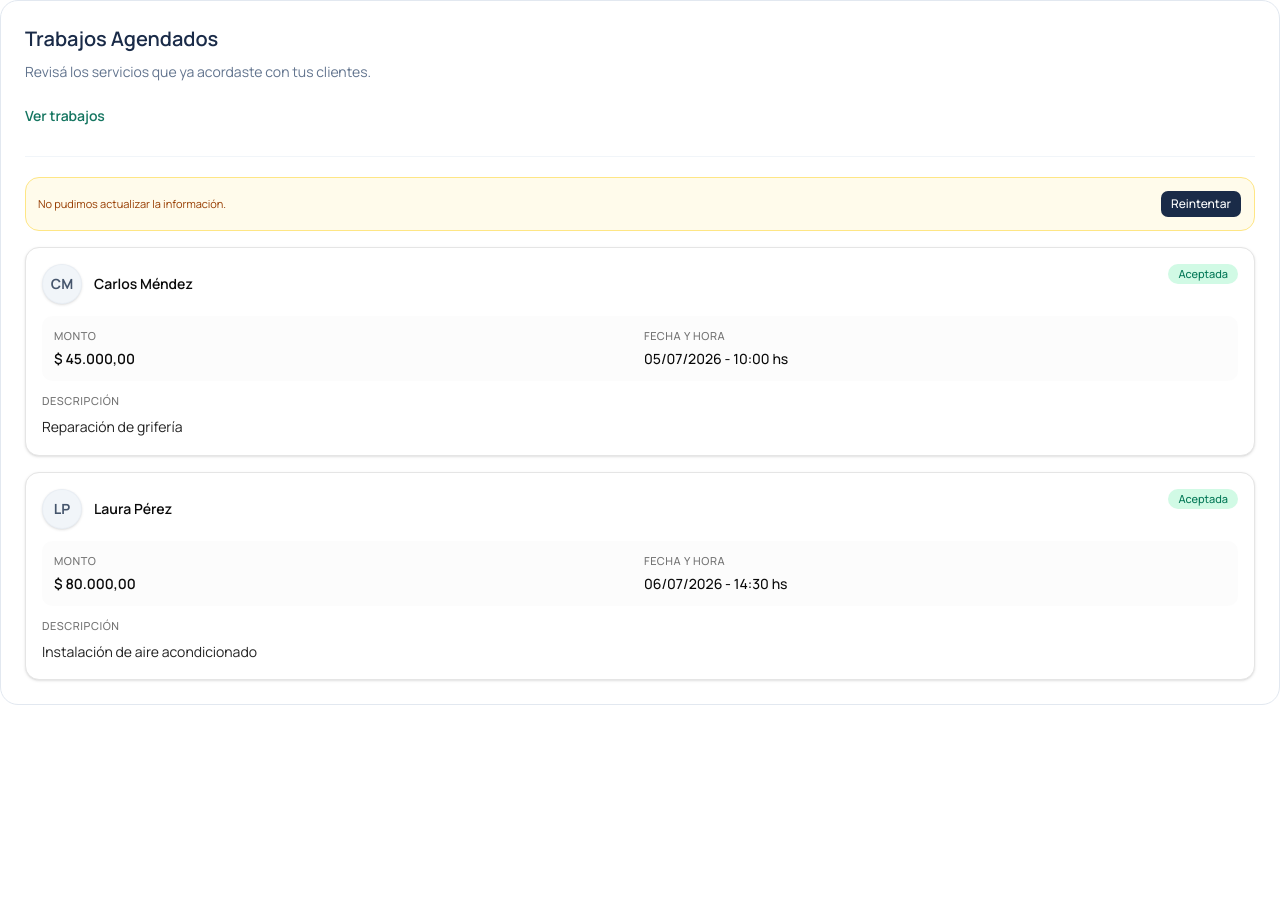
it: ScheduledJobsSection › preserves scheduled jobs and allows retry after a refresh failure
This screenshot has width=1280, height=900.
Check: the text "Reparación de grifería" is shown, box [42, 417, 182, 436]
Check: the message with test id "scheduled-jobs-refresh-error" shows "No pudimos actualizar la información.", box [38, 196, 226, 210]
Click the button "Reintentar" at (1201, 204), box [1160, 190, 1242, 218]
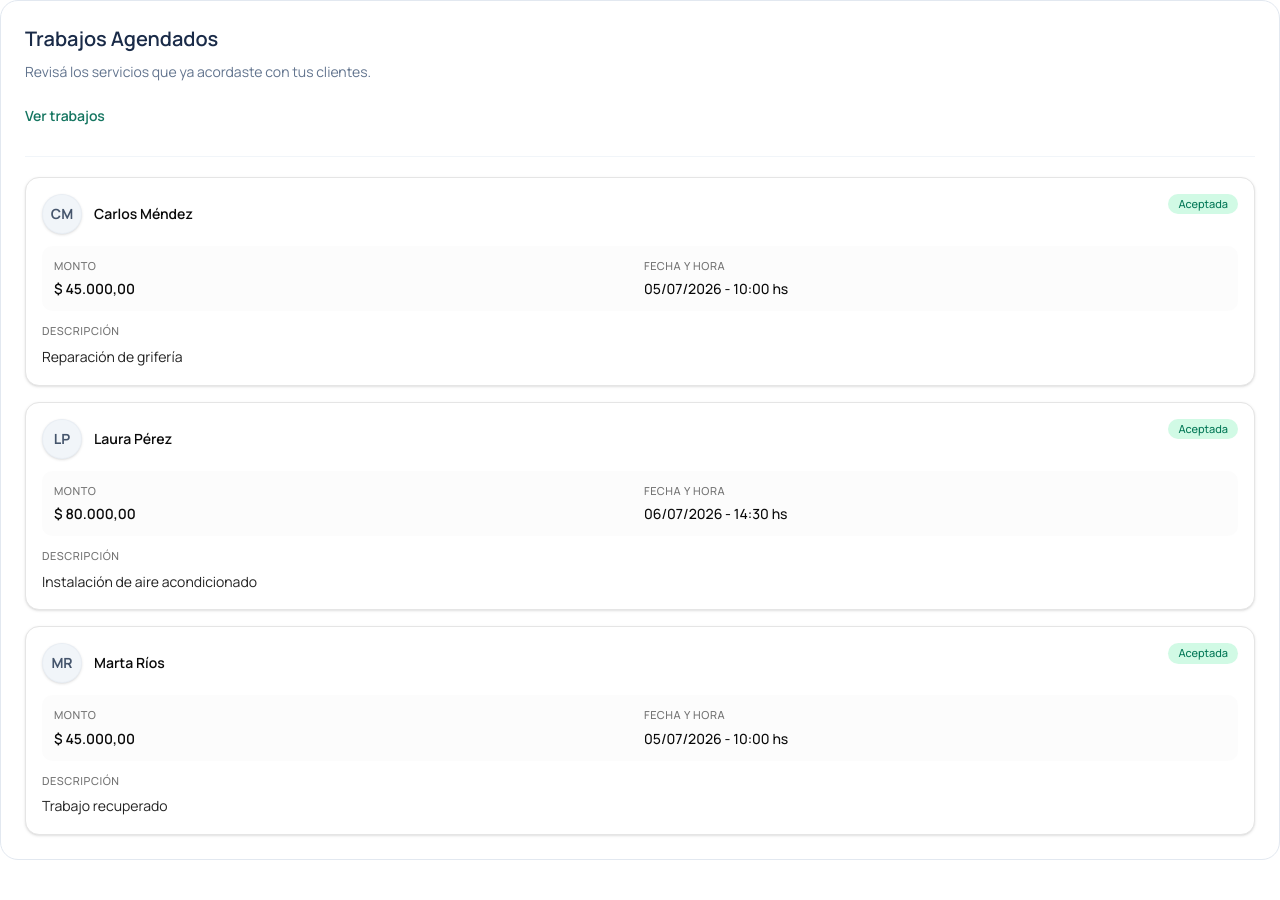
Check: the heading "Marta Ríos" is shown, box [94, 656, 165, 670]
Check: the message with test id "scheduled-jobs-refresh-error" is gone
Check: the number of list items is 3, box [25, 177, 1255, 386]; [25, 402, 1255, 610]; [25, 626, 1255, 835]
